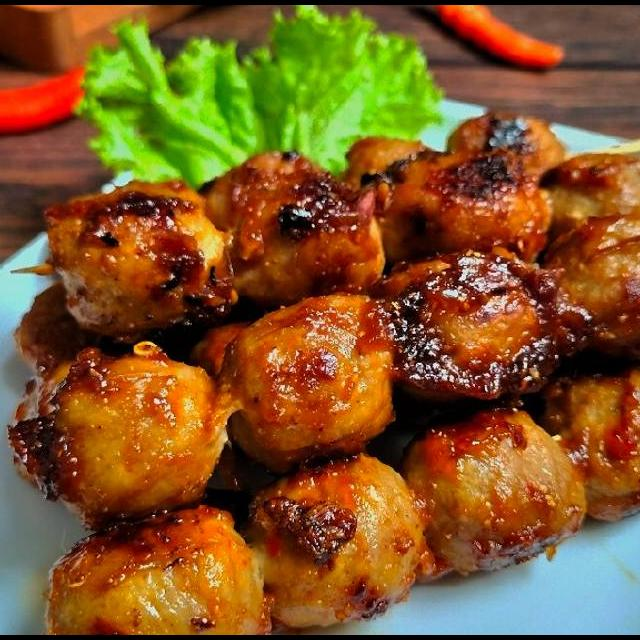food_waste: (70, 164, 604, 585)
